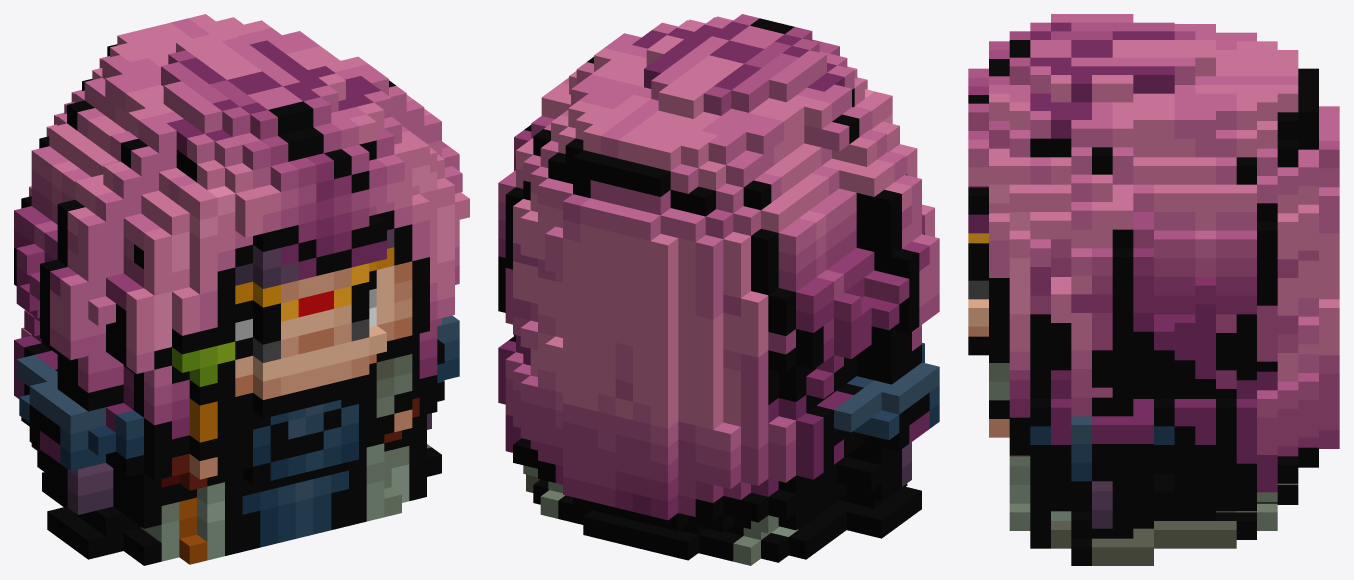
The model's file is Icon_008_02.obj.
3 views of the same model, side by side, from view 1: azimuth 30°, elevation 25°; view 2: azimuth 150°, elevation 25°; view 3: azimuth 270°, elevation 25° (orthographic).
Size of the model in its own units: 2.2 by 2.3 by 1.8.
Materials: 1 (1 with a texture image).
